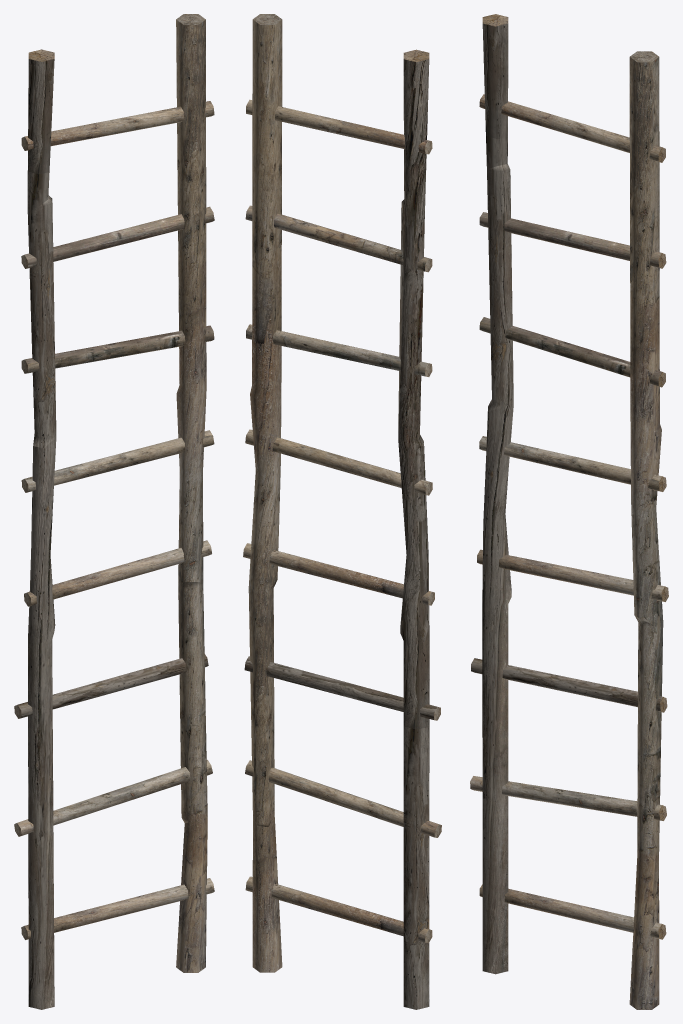
Rendered from Ladder1.fbx.
3 renders of one model, left to right at view 1: azimuth 30°, elevation 25°; view 2: azimuth 150°, elevation 25°; view 3: azimuth 330°, elevation 25°, orthographic.
Visible parts, largest first — view 1: polySurface123; view 2: polySurface123; view 3: polySurface123.
Part boxes in pixels (x1=…): polySurface123: x1=14, y1=14, x2=214, y2=1009; polySurface123: x1=243, y1=14, x2=441, y2=1009; polySurface123: x1=470, y1=14, x2=668, y2=1009.
Size of the model in its own units: 0.8587 by 4.05 by 0.1339.
